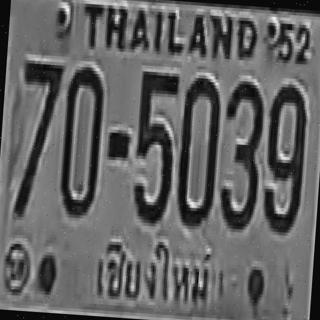N00: (174, 74, 221, 224), (58, 63, 104, 216)
N03: (218, 77, 264, 227)
N05: (130, 68, 178, 221)
N07: (12, 57, 63, 216)
N09: (260, 78, 307, 232)
P11: (86, 230, 217, 312)
